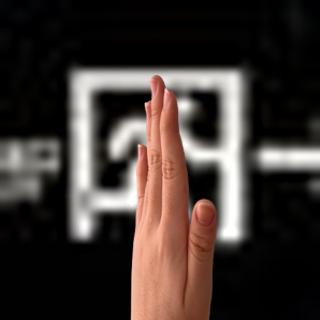Right: (127, 75, 224, 306)
